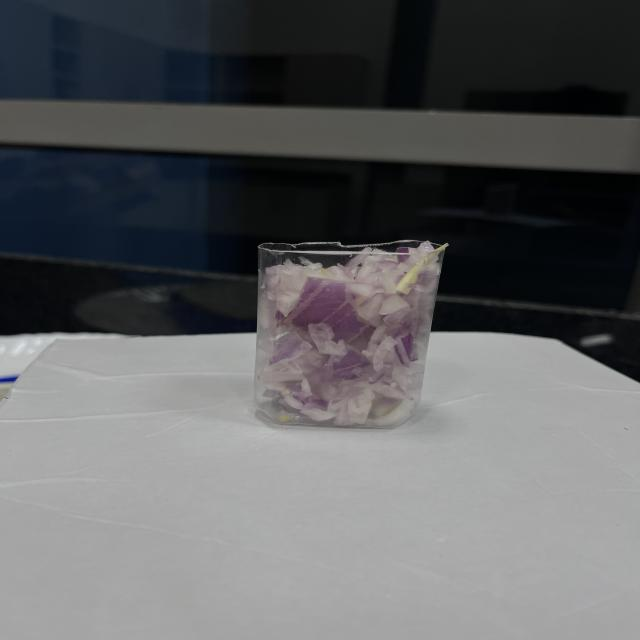sliced_onions: (254, 244, 444, 428)
